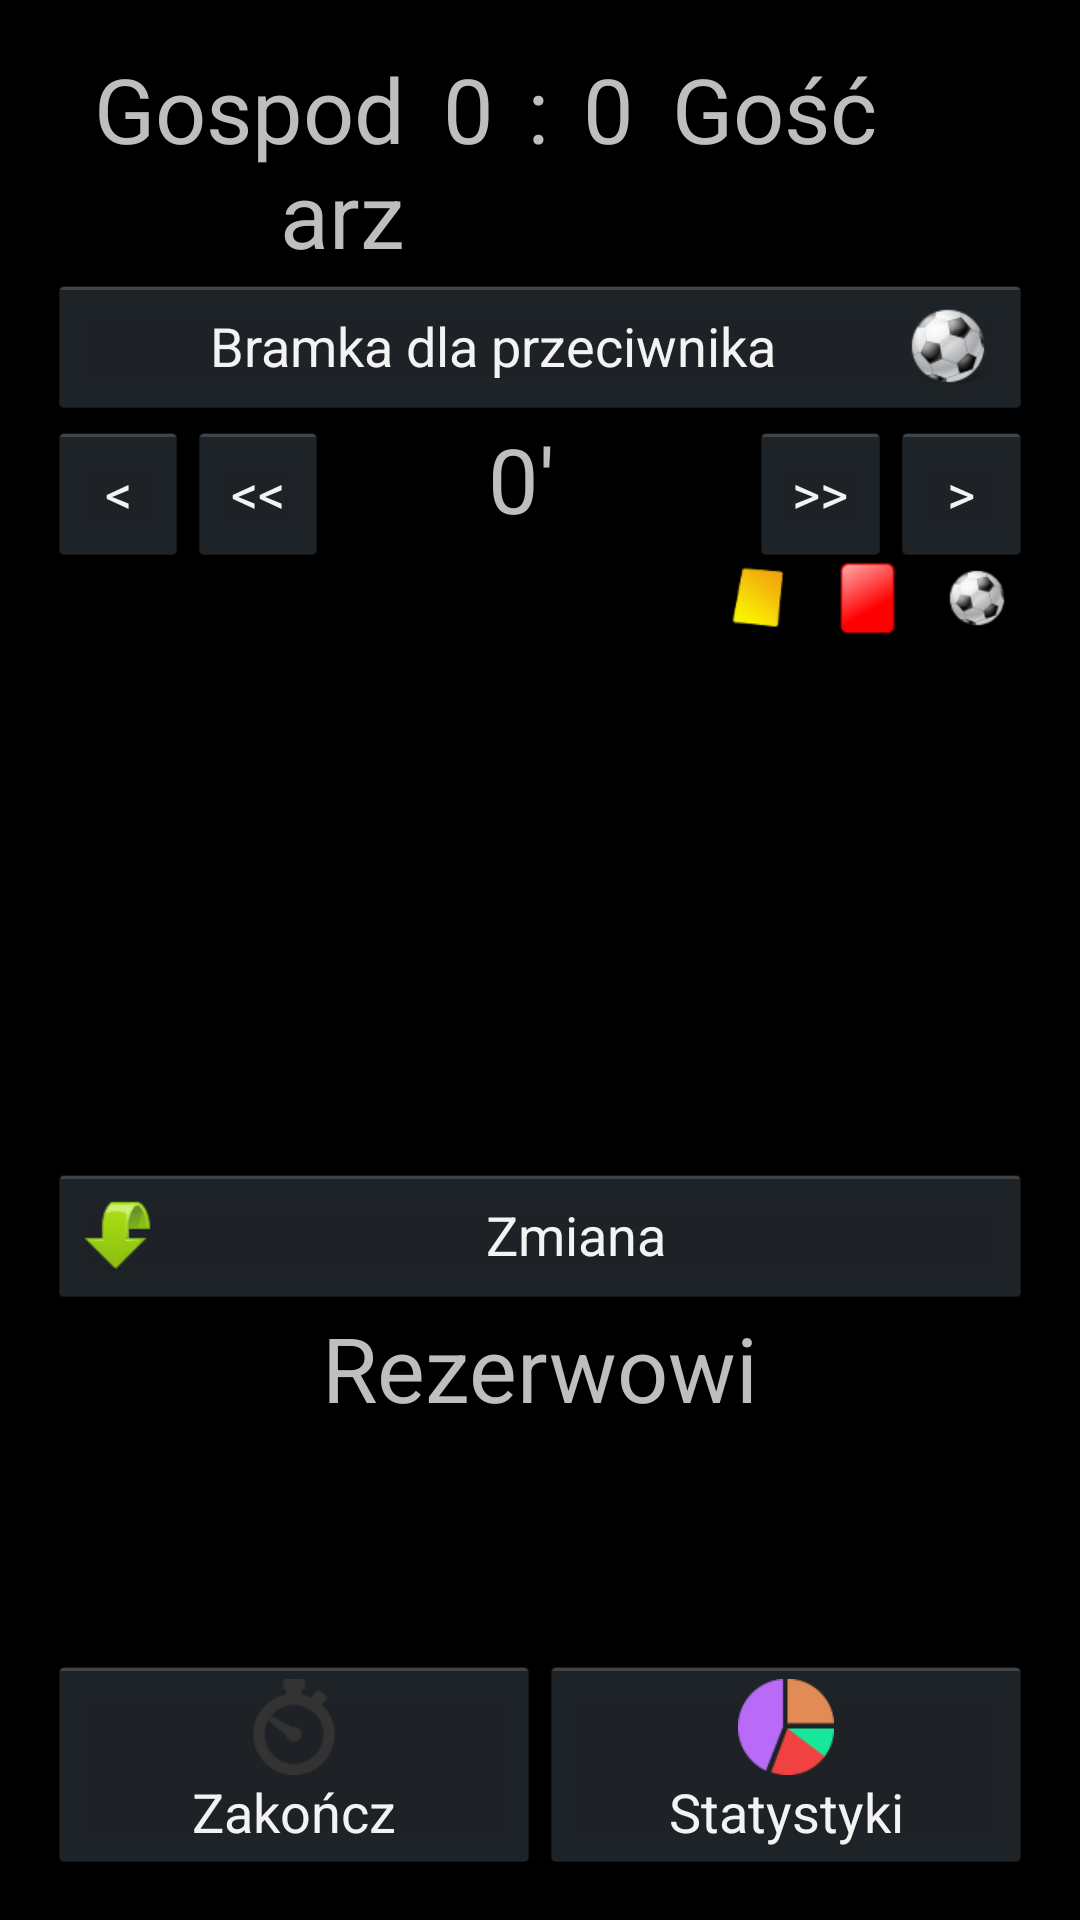

Named icons in this screenshot (1080x1920) and their centers, [x,y]:
czerwona: [868,598]
pilka: [977,598]
zolta: [758,597]
